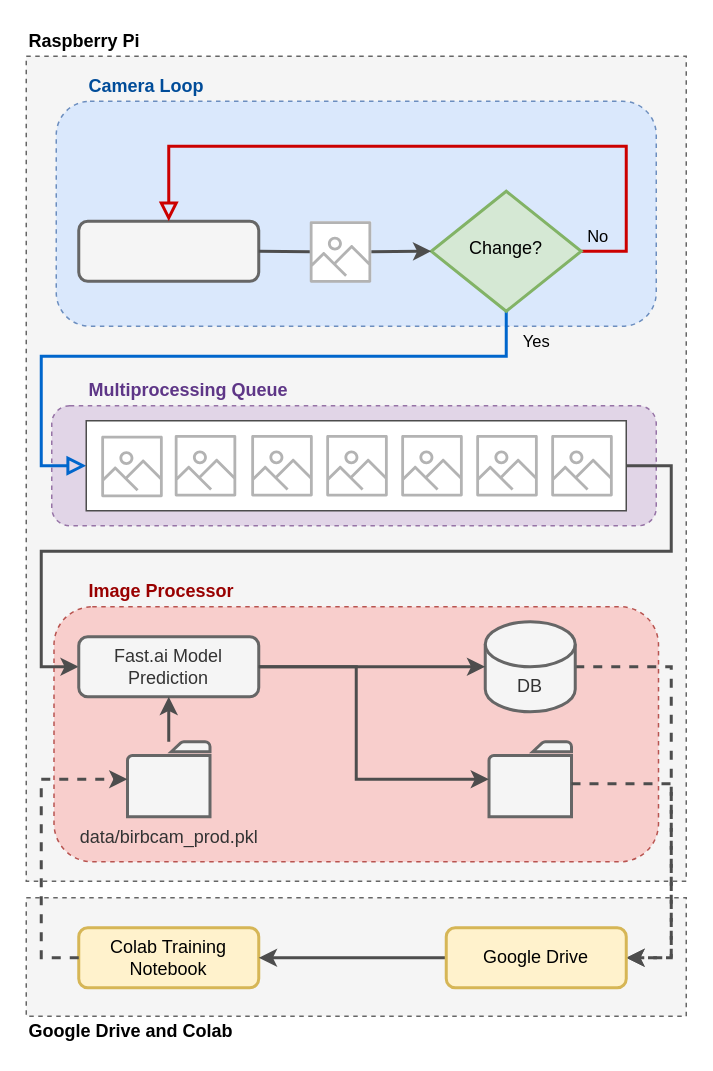
Some shapes in this 713 by 1071 pixel diagram are drawn without their labels. The shapes that lost their labels are listed below. From the top down, each one's centre as x and y in pixels, then its label:
At [168,250]: "Webcam Frame".
At [339,251]: "Image".
At [529,779]: "data/imgs/".
